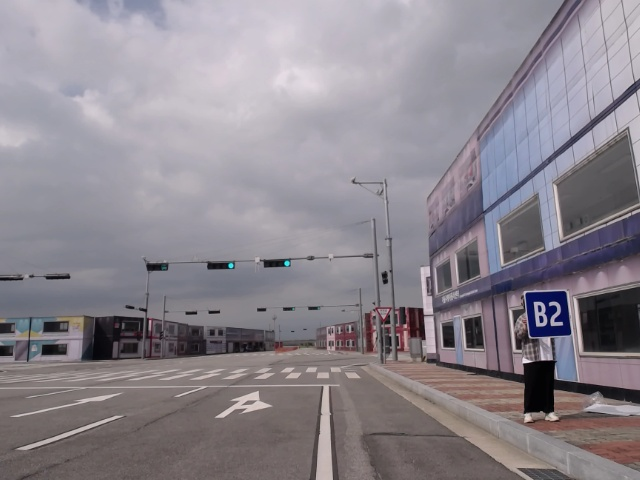delivery_b2: (522, 288, 574, 339)
straight_green_4: (205, 261, 236, 271), (265, 258, 292, 268), (282, 306, 297, 313), (307, 305, 321, 311)
